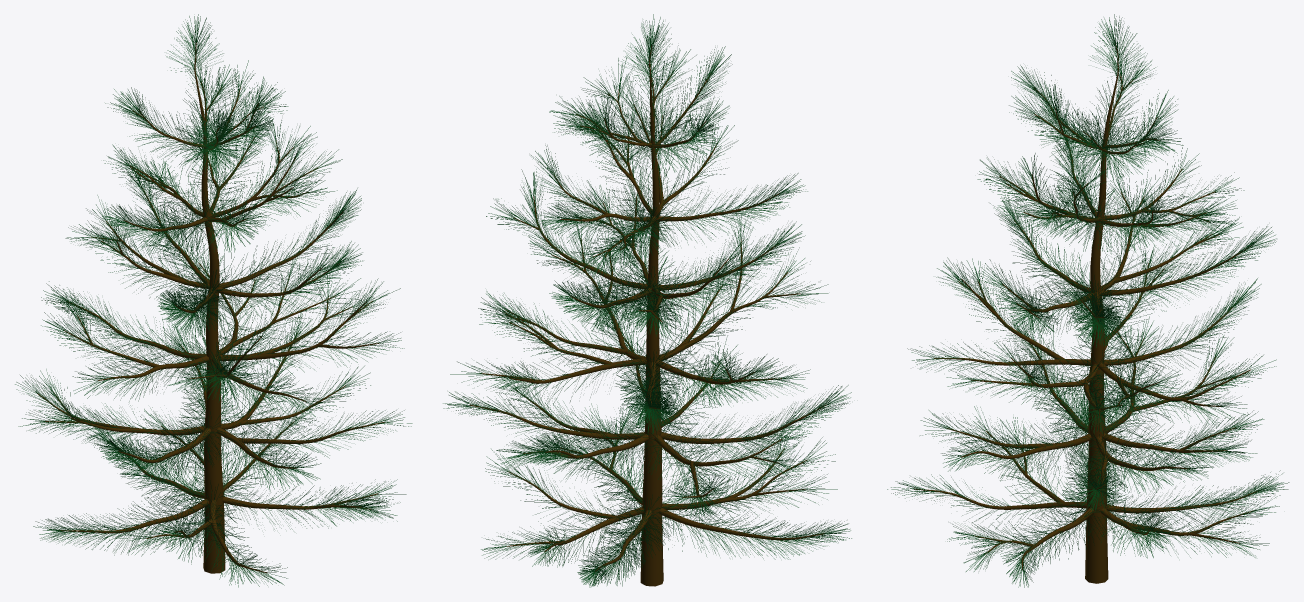
The model's file is pine.fbx.
3 renders of one model, left to right at view 1: azimuth 30°, elevation 25°; view 2: azimuth 150°, elevation 25°; view 3: azimuth 270°, elevation 25°, orthographic. The views are drawn at different scales.
Visible parts, largest first — view 1: pine; view 2: pine; view 3: pine.
Part boxes in pixels (x1,y1,x2,y2): pine: [15, 14, 412, 587]; pine: [443, 14, 851, 587]; pine: [887, 14, 1289, 587].
Size of the model in its own units: 138 by 139 by 210.
